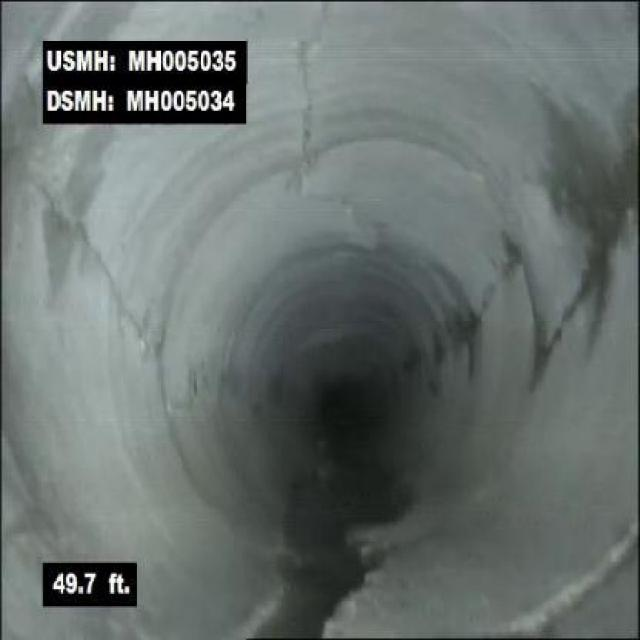Crack: (25, 158, 149, 348), (532, 252, 606, 391), (291, 1, 338, 172)
